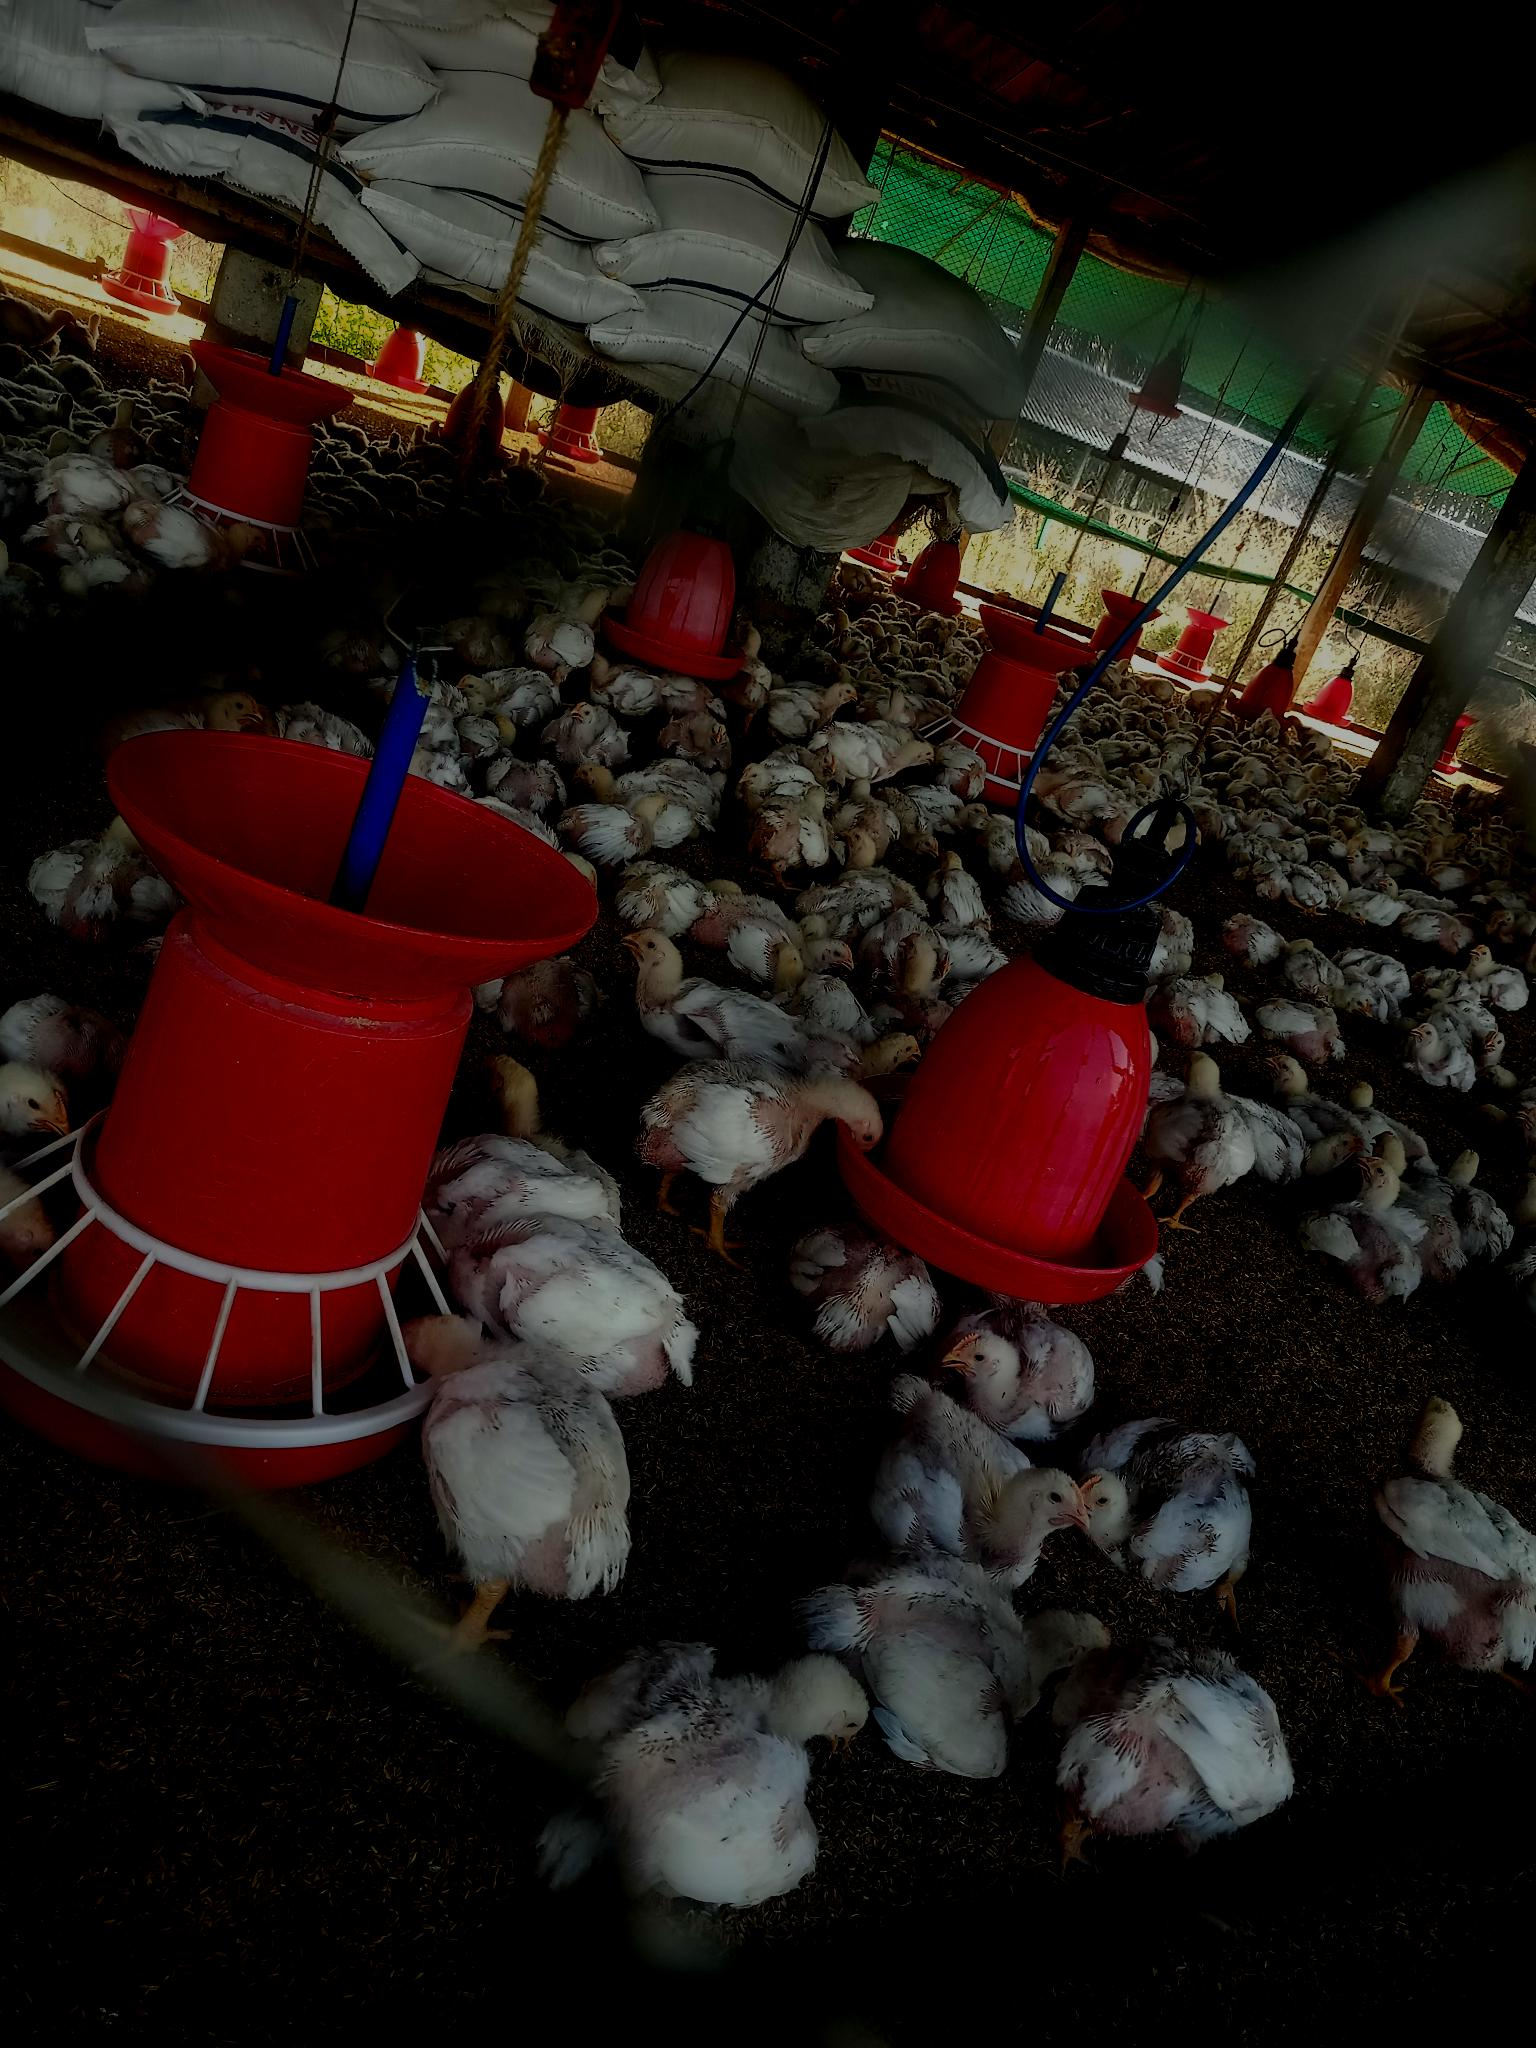Pollos: (552, 1638, 868, 1895), (407, 1316, 628, 1609), (1368, 1393, 1536, 1693), (1089, 1638, 1292, 1835), (874, 1405, 1083, 1580), (1091, 1413, 1257, 1593), (466, 1042, 610, 1222), (624, 918, 791, 1064), (636, 1076, 871, 1179), (1304, 1147, 1431, 1293), (939, 1309, 1086, 1417), (792, 1219, 905, 1356), (570, 753, 720, 837), (1167, 1051, 1254, 1192), (884, 930, 962, 1047), (1252, 992, 1347, 1064), (458, 666, 565, 727), (916, 842, 989, 926), (750, 689, 865, 739), (836, 829, 913, 901), (1465, 935, 1533, 1018), (823, 732, 941, 779), (663, 706, 745, 771), (553, 698, 629, 760), (1405, 1024, 1470, 1093), (741, 756, 820, 813), (1220, 908, 1286, 971)
